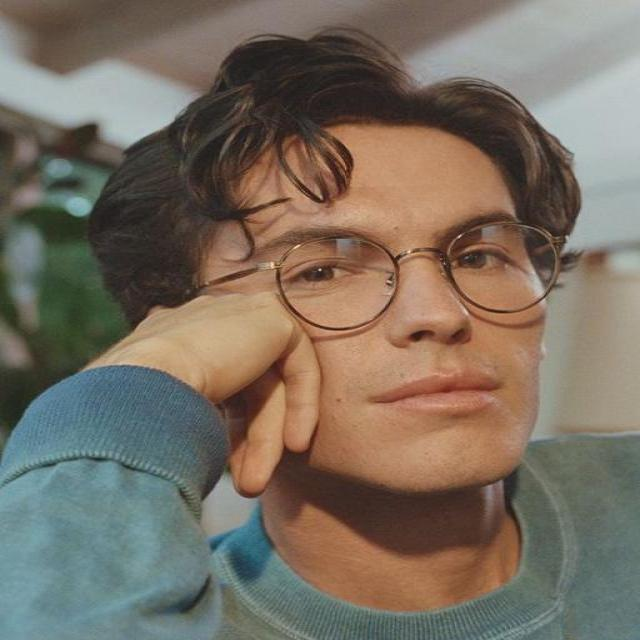glasses: (196, 220, 560, 332)
